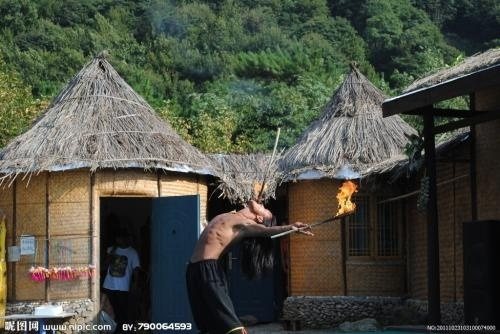fire: (334, 178, 359, 214)
